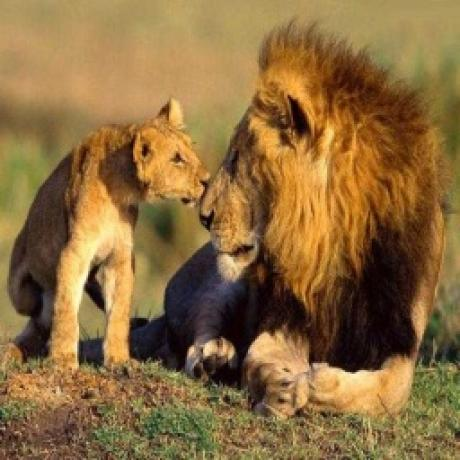Lion: (164, 24, 446, 412), (8, 95, 212, 369)
